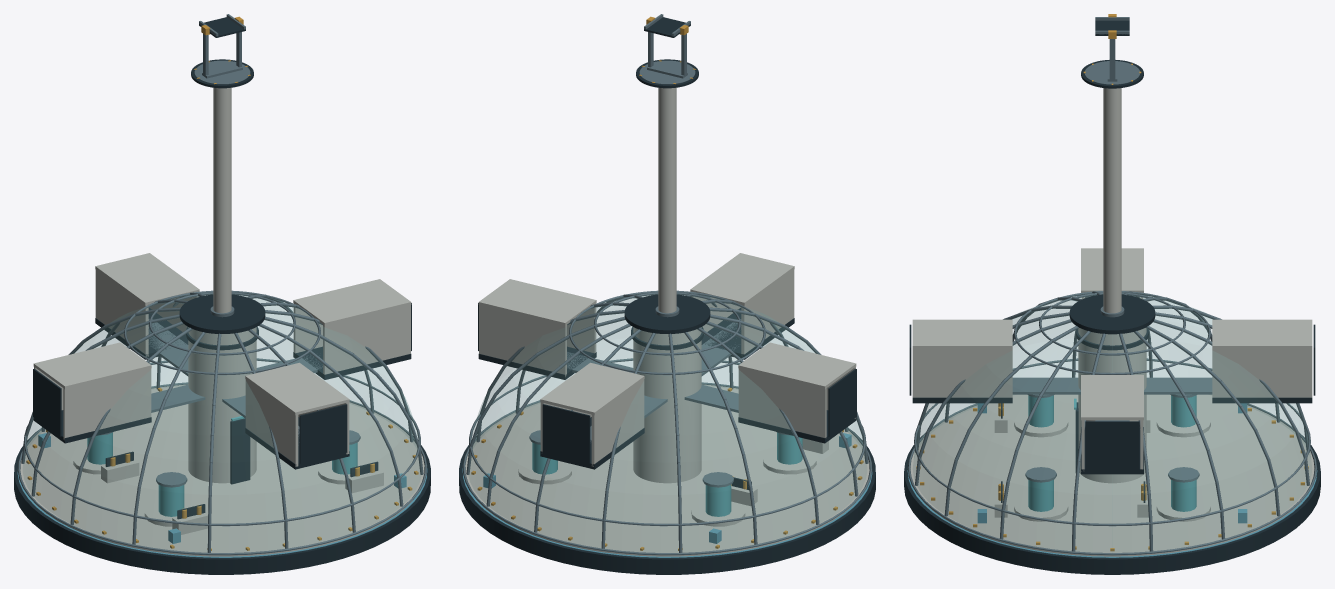
File: research_d0_lod0.glb
3 views of the same model, side by side, from view 1: azimuth 30°, elevation 25°; view 2: azimuth 150°, elevation 25°; view 3: azimuth 270°, elevation 25° (orthographic).
Parts seen in each view (by area): view 1: BODY, SHELL, PORT_CAP_N, PORT_CAP_W, FORK, CRADLE; view 2: BODY, SHELL, PORT_CAP_S, PORT_CAP_W, FORK, CRADLE; view 3: BODY, SHELL, PORT_CAP_E, CRADLE.
Part boxes in pixels (x1=…): BODY: x1=14, y1=59, x2=430, y2=574; SHELL: x1=23, y1=294, x2=420, y2=552; PORT_CAP_N: x1=299, y1=404, x2=347, y2=463; PORT_CAP_W: x1=33, y1=368, x2=61, y2=436; FORK: x1=201, y1=16, x2=243, y2=78; CRADLE: x1=199, y1=14, x2=245, y2=37; BODY: x1=459, y1=59, x2=875, y2=574; SHELL: x1=469, y1=294, x2=866, y2=552; PORT_CAP_S: x1=542, y1=404, x2=590, y2=463; PORT_CAP_W: x1=828, y1=368, x2=856, y2=436; FORK: x1=646, y1=16, x2=688, y2=78; CRADLE: x1=644, y1=14, x2=690, y2=37; BODY: x1=904, y1=60, x2=1320, y2=574; SHELL: x1=913, y1=295, x2=1311, y2=552; PORT_CAP_E: x1=1085, y1=421, x2=1139, y2=469; CRADLE: x1=1095, y1=17, x2=1129, y2=35.
Bounding box in the file's own units: 29.2 × 35.85 × 29.2.
